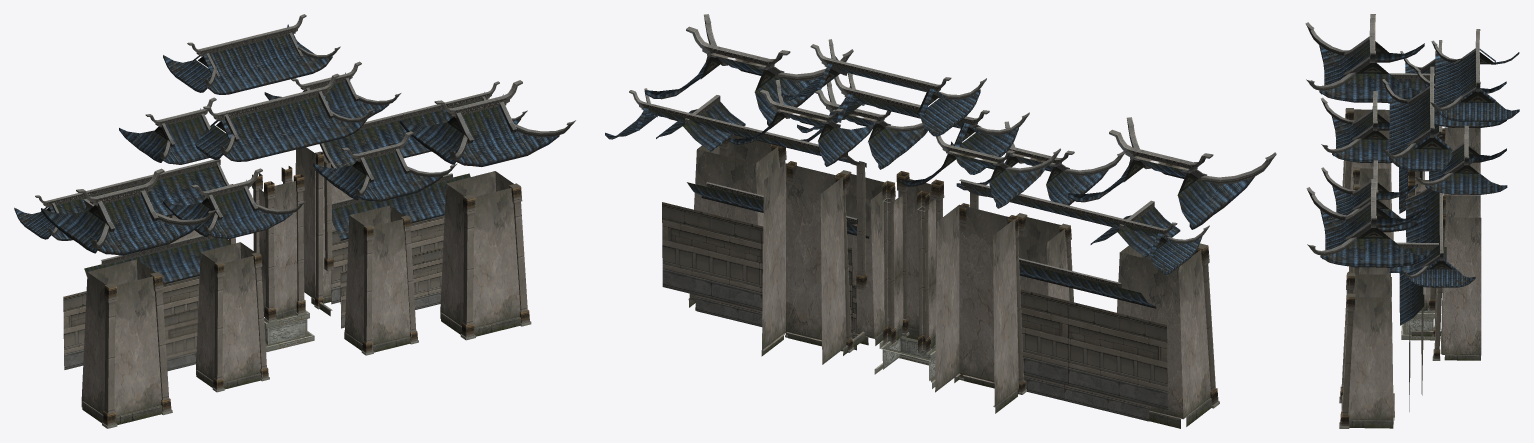
File: jd_fangzi_1.FBX
3 views of the same model, side by side, from view 1: azimuth 30°, elevation 25°; view 2: azimuth 150°, elevation 25°; view 3: azimuth 270°, elevation 25° (orthographic). The views are drawn at different scales.
Parts seen in each view (by area): view 1: jd_fangzi_1; view 2: jd_fangzi_1; view 3: jd_fangzi_1.
Boxes of the visible parts, x1,y1,x2,y2 form: jd_fangzi_1: (14, 14, 575, 428); jd_fangzi_1: (605, 14, 1276, 428); jd_fangzi_1: (1305, 14, 1519, 428).
Bounding box in the file's own units: 2611 × 1504 × 1053.
